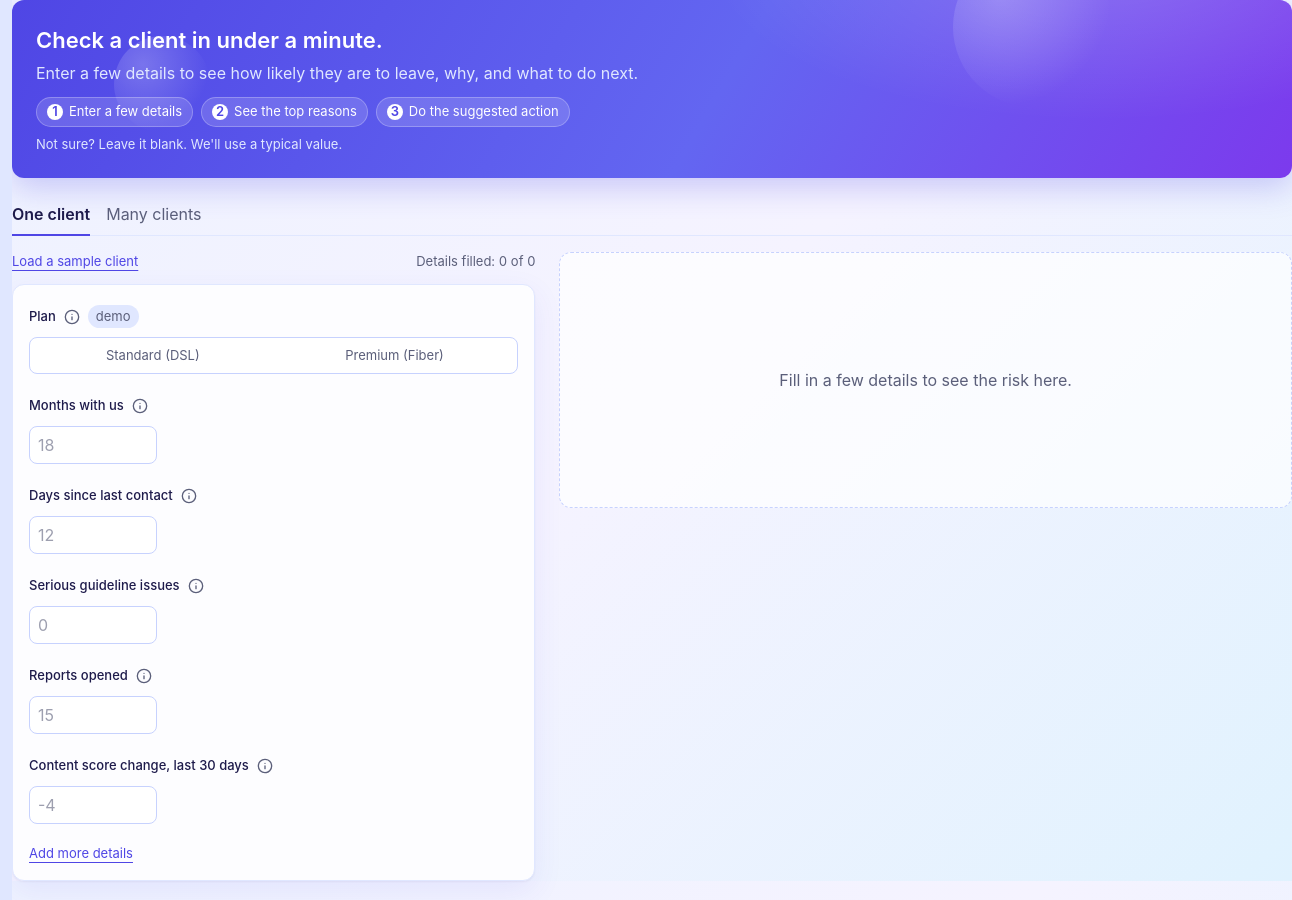
Test: Demo pill and data_origin notes › shows the telecom demo note in a field tooltip
Expected: the radio button labelled "Standard (DSL)" is shown, [32,340,274,371]
What coordinates should you click on to do the following:
click the button named "About Plan"
I would click on:
 (72, 316)
Its box is [56,300,88,332].
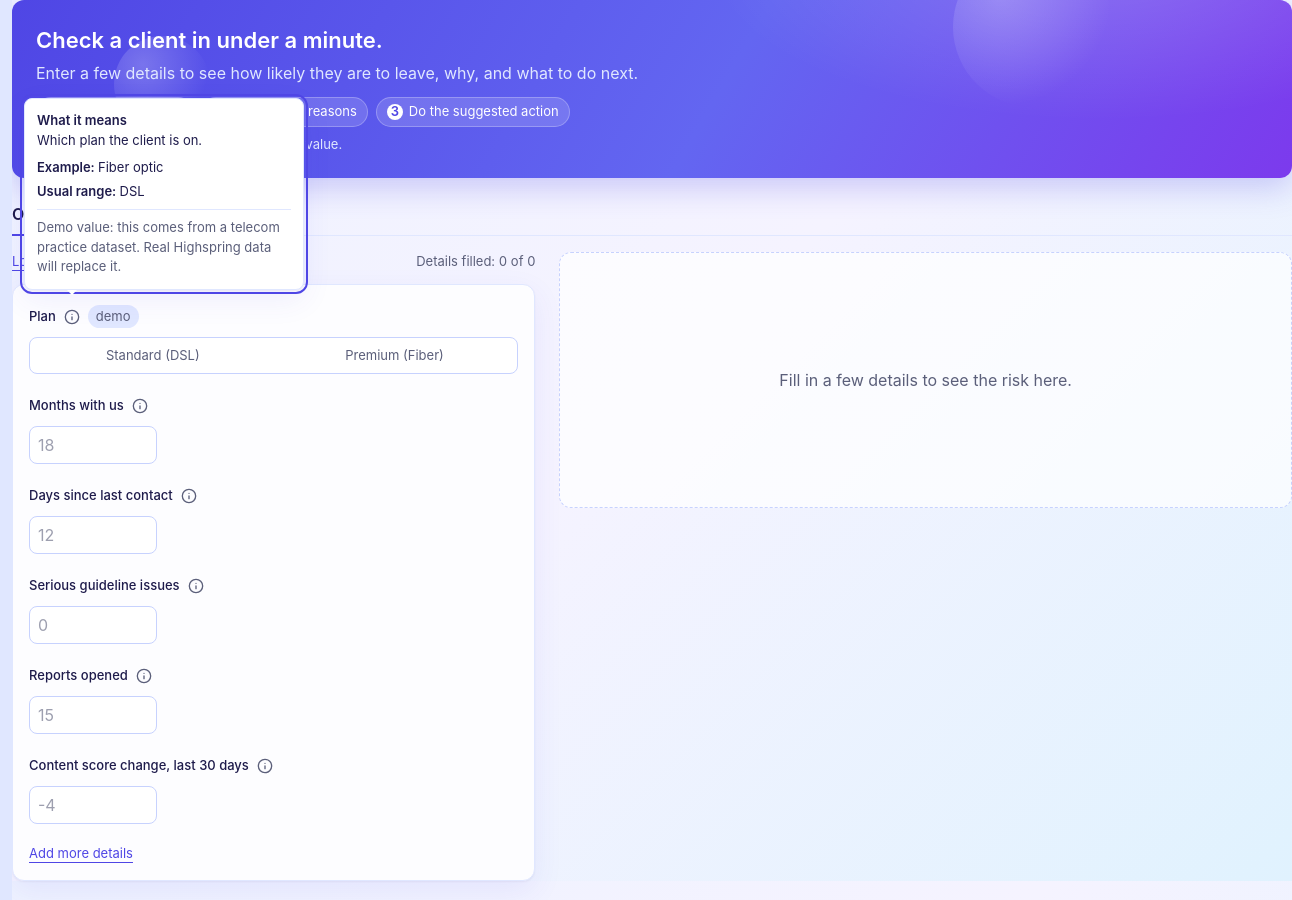
Expected: the text "Demo value: this comes from a telecom practice dataset. Real Highspring data will replace it." is shown, [37,219,280,274]
